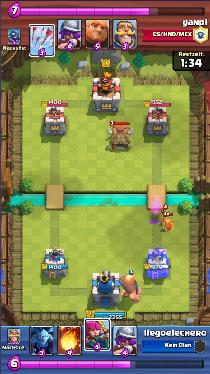enemy_goblin_hut: (106, 127, 133, 151)
enemy_spear_goblin: (162, 218, 173, 231), (161, 209, 171, 217)
